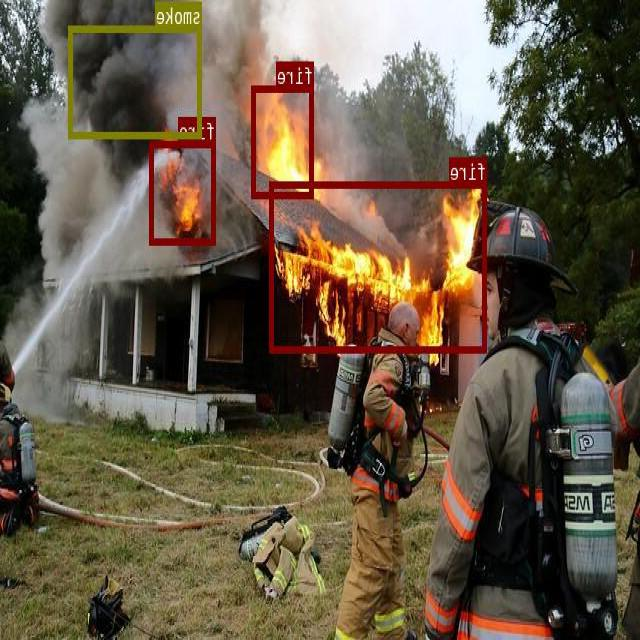fire: (270, 181, 488, 352), (150, 141, 217, 244), (253, 84, 314, 197)
smoke: (70, 26, 203, 138)
